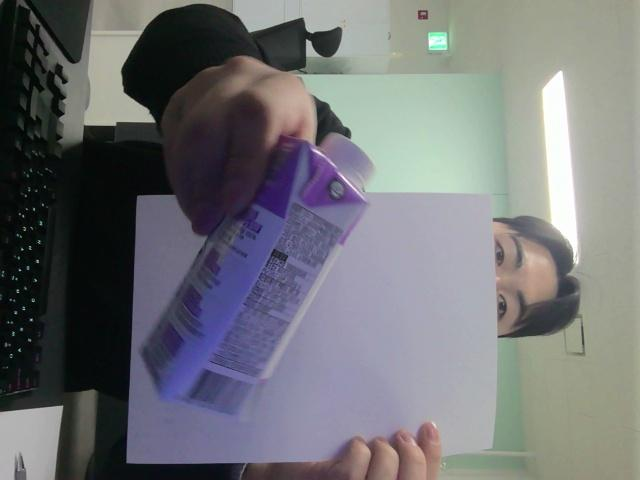milk: (140, 135, 374, 414)
